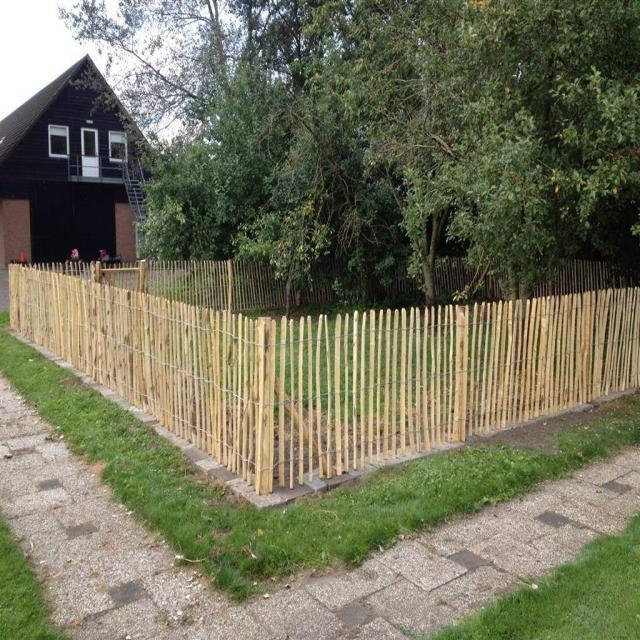fence line: (20, 266, 299, 472), (260, 300, 640, 450)
